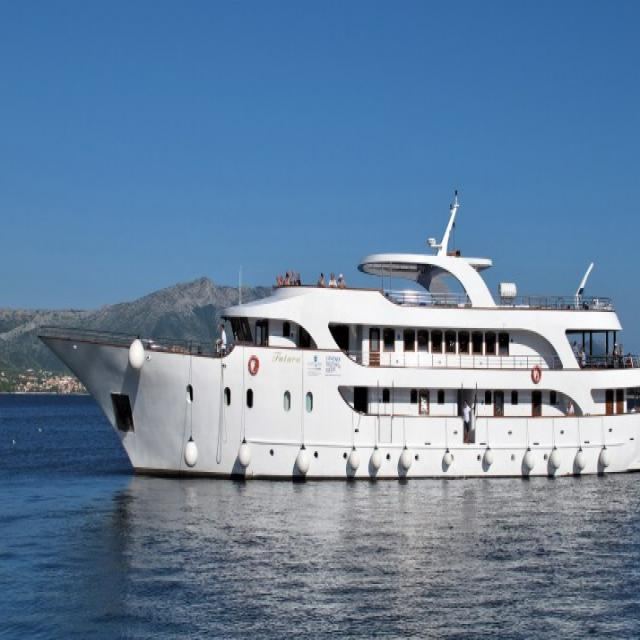cruises: (34, 187, 640, 494)
